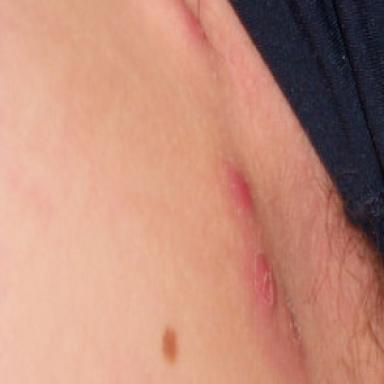acne: (227, 163, 253, 217), (254, 253, 275, 305), (184, 2, 208, 44)
